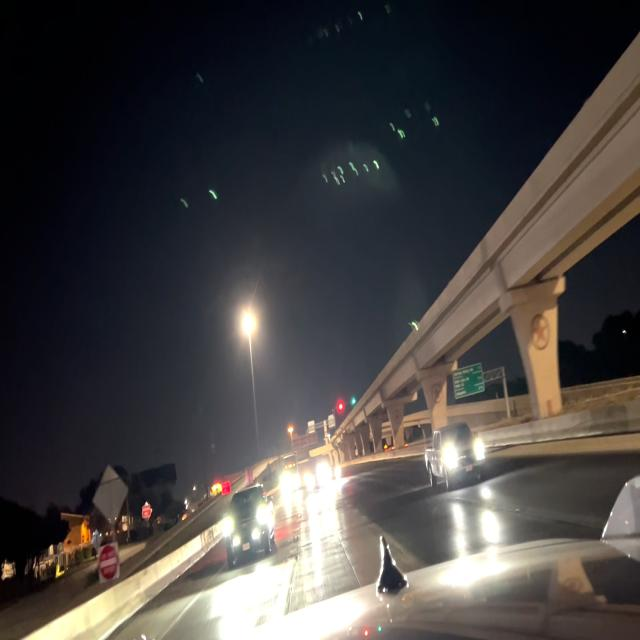back-of-sign: (92, 462, 129, 525), (293, 439, 321, 460), (307, 416, 316, 437)
